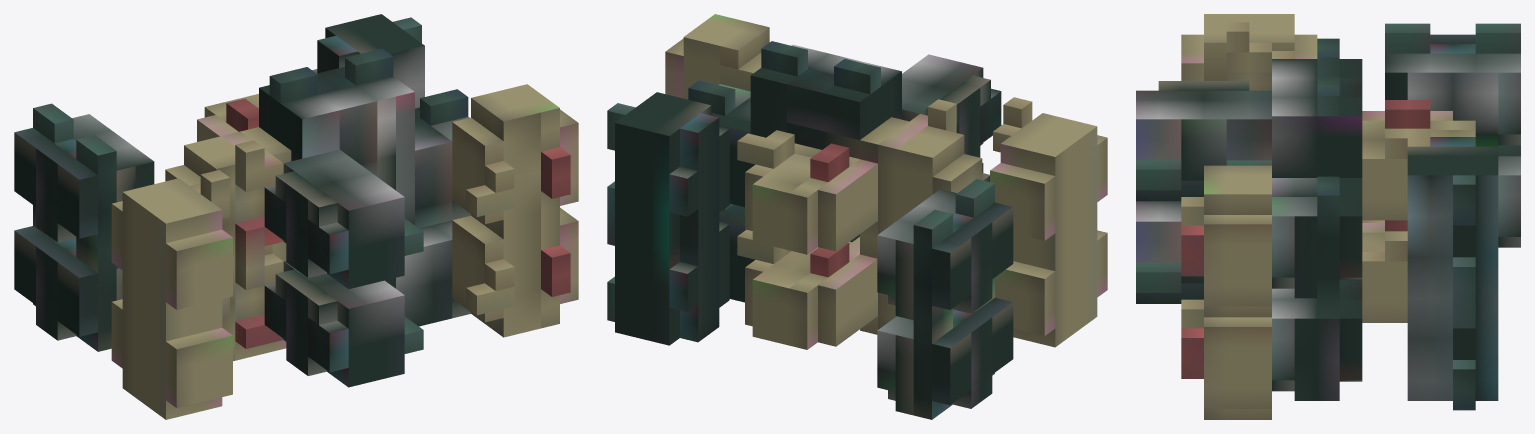
File: Machine_CatchaDoll_Dolls_00.fbx
The picture shows the model from 3 angles, left to right: view 1: azimuth 30°, elevation 25°; view 2: azimuth 150°, elevation 25°; view 3: azimuth 270°, elevation 25°; orthographic projection. The views are drawn at different scales.
Visible parts, largest first — view 1: Machine_CatchaDoll_Dolls_00; view 2: Machine_CatchaDoll_Dolls_00; view 3: Machine_CatchaDoll_Dolls_00.
Boxes of the visible parts, x1,y1,x2,y2 form: Machine_CatchaDoll_Dolls_00: (14,14,578,419); Machine_CatchaDoll_Dolls_00: (607,14,1107,419); Machine_CatchaDoll_Dolls_00: (1136,14,1520,419).
Bounding box in the file's own units: 110 × 65 × 85.
